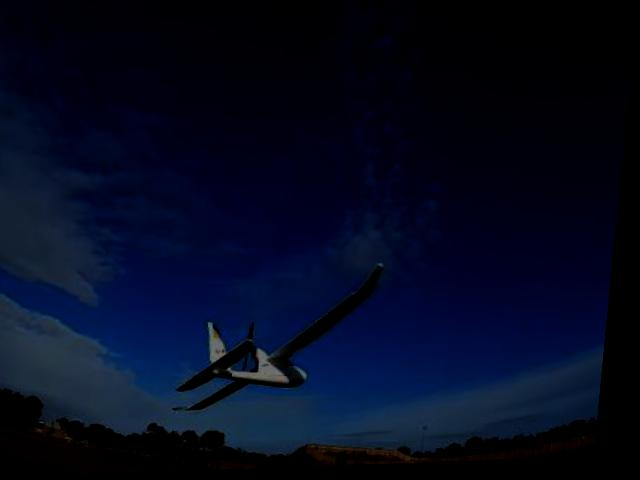uav: (172, 253, 398, 430)
